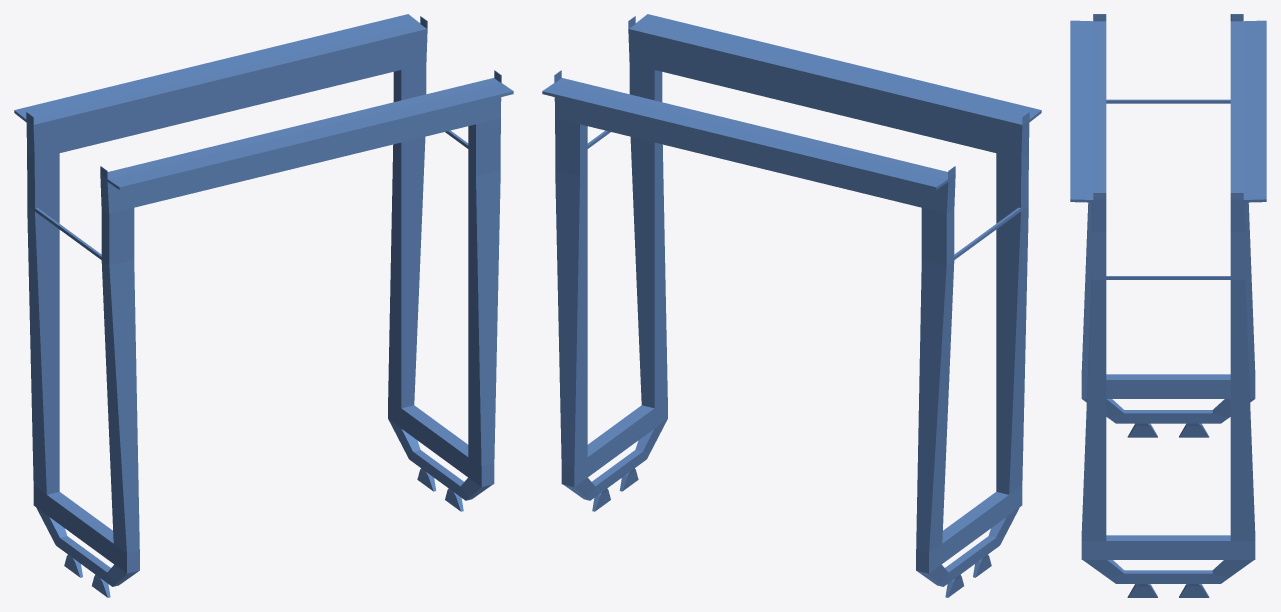
3 renders of one model, left to right at view 1: azimuth 30°, elevation 25°; view 2: azimuth 150°, elevation 25°; view 3: azimuth 270°, elevation 25°, orthographic. The views are drawn at different scales.
Visible parts, largest first — view 1: base; view 2: base; view 3: base.
Boxes of the visible parts, left/top/right/bottom form: base: left=14, top=14, right=513, bottom=597; base: left=542, top=14, right=1041, bottom=597; base: left=1070, top=14, right=1266, bottom=597.
Bounding box in the file's own units: 25.61 × 27.62 × 11.88.
